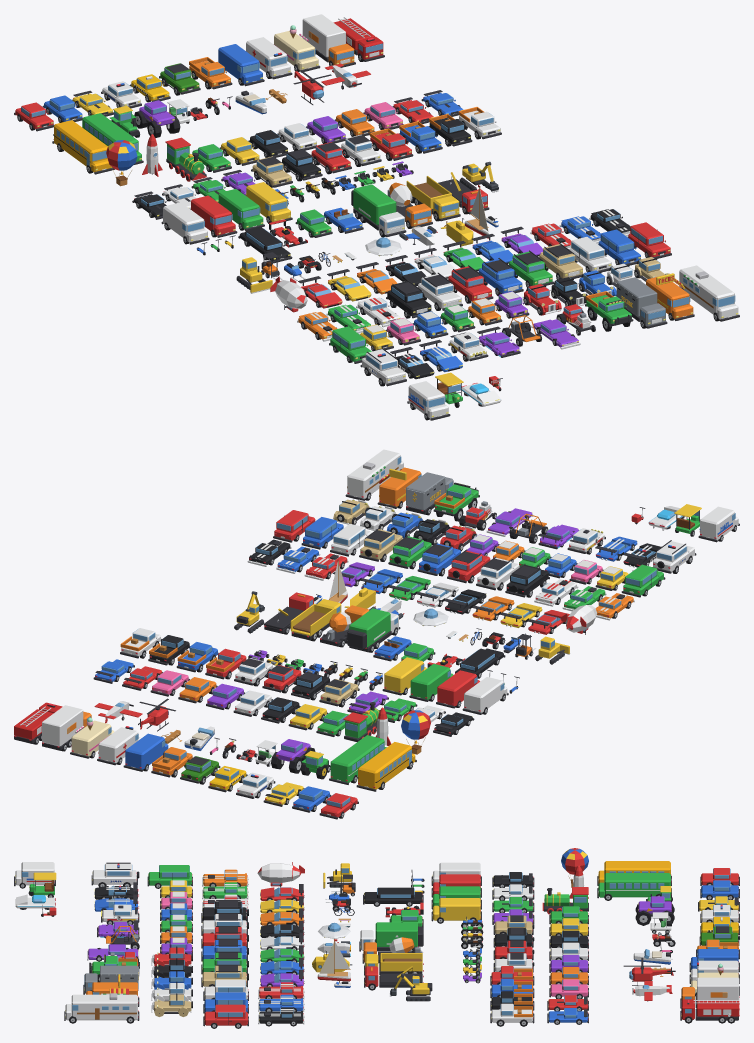
File: Vehicles.fbx
3 renders of one model, top to bottom at view 1: azimuth 30°, elevation 25°; view 2: azimuth 150°, elevation 25°; view 3: azimuth 270°, elevation 25°, orthographic. The views are drawn at different scales.
Visible parts, largest first — view 1: CamperRV, GarbageTruck, DeliveryTruck, SchoolBus, ArmoredTruck, FoodTruck, WhiteVan, IceCreamTruck, Van, GreenVan, Ambulance, RedVan (+57 smaller); view 2: SchoolBus, CamperRV, GarbageTruck, CityBus, DeliveryTruck, ArmoredTruck, FoodTruck, WhiteVan, Van, IceCreamTruck, Ambulance, GreenVan (+59 smaller); view 3: CamperRV, CityBus, GarbageTruck, DeliveryTruck, FireTruck, YellowVan, ArmoredTruck, SchoolBus, PoliceSUV, Limousine, RedMinivan, Train (+93 smaller).
Boxes of the visible parts, bbox=[...] form: CamperRV: bbox=[679, 265, 739, 321]; GarbageTruck: bbox=[351, 184, 406, 237]; DeliveryTruck: bbox=[302, 14, 355, 67]; SchoolBus: bbox=[52, 120, 114, 174]; ArmoredTruck: bbox=[615, 277, 667, 328]; FoodTruck: bbox=[646, 273, 694, 320]; WhiteVan: bbox=[161, 202, 209, 244]; IceCreamTruck: bbox=[274, 25, 320, 72]; Van: bbox=[218, 44, 264, 86]; GreenVan: bbox=[218, 189, 264, 230]; Ambulance: bbox=[246, 37, 292, 79]; RedVan: bbox=[191, 195, 237, 237]; SchoolBus: bbox=[356, 742, 416, 791]; CamperRV: bbox=[345, 449, 403, 500]; GarbageTruck: bbox=[347, 608, 400, 652]; CityBus: bbox=[329, 735, 386, 784]; DeliveryTruck: bbox=[42, 705, 91, 750]; ArmoredTruck: bbox=[404, 472, 453, 514]; FoodTruck: bbox=[377, 467, 421, 508]; WhiteVan: bbox=[462, 677, 508, 714]; Van: bbox=[123, 733, 168, 771]; IceCreamTruck: bbox=[70, 717, 114, 758]; Ambulance: bbox=[97, 726, 141, 765]; GreenVan: bbox=[409, 664, 453, 701]; CamperRV: bbox=[64, 993, 139, 1020]; CityBus: bbox=[597, 873, 671, 898]; GarbageTruck: bbox=[359, 922, 423, 951]; DeliveryTruck: bbox=[680, 977, 739, 1008]; FireTruck: bbox=[680, 999, 739, 1020]; YellowVan: bbox=[431, 898, 481, 921]; ArmoredTruck: bbox=[83, 965, 139, 994]; SchoolBus: bbox=[597, 861, 671, 885]; PoliceSUV: bbox=[91, 862, 139, 885]; Limousine: bbox=[363, 887, 423, 904]; RedMinivan: bbox=[203, 1004, 248, 1026]; Train: bbox=[542, 887, 588, 911].
Size of the model in its own units: 85.32 by 10.65 by 175.
1 material, 1 textured.
